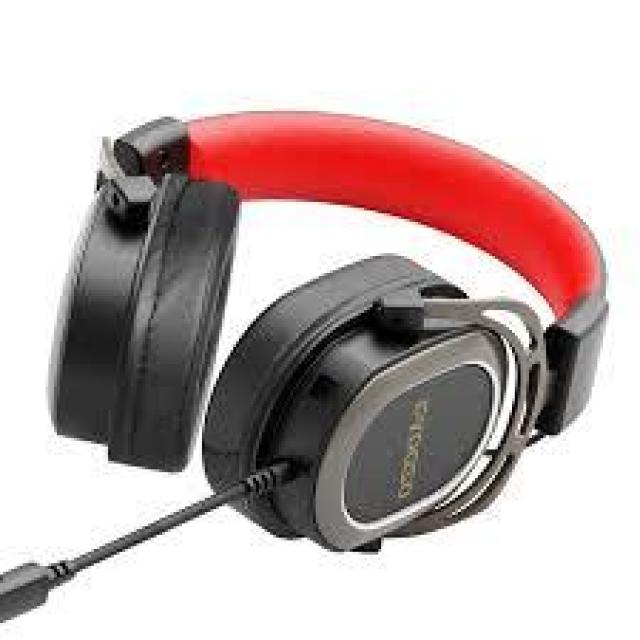headset: (60, 107, 603, 516)
